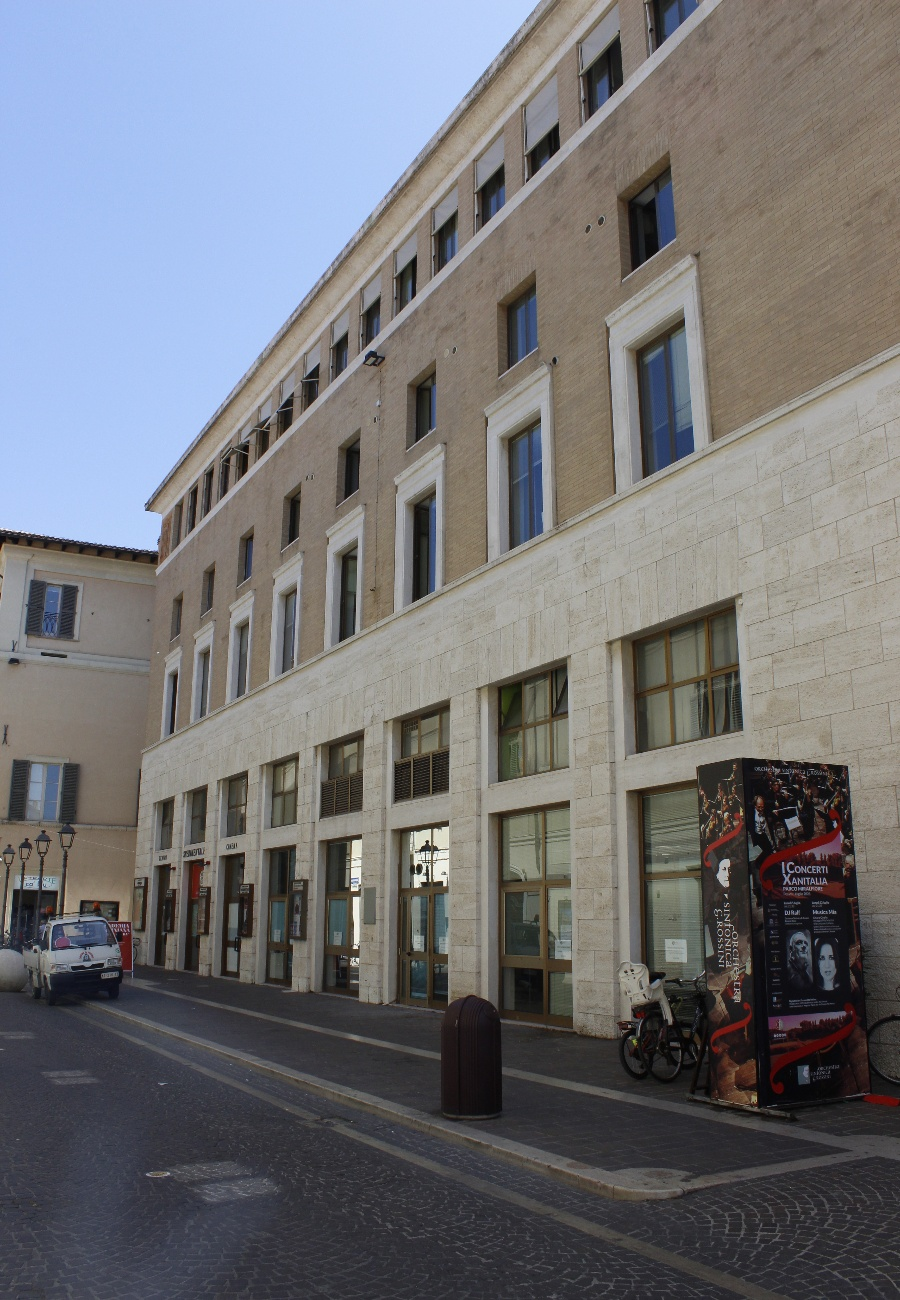Teatro Sperimentale: (129, 6, 731, 1066)
